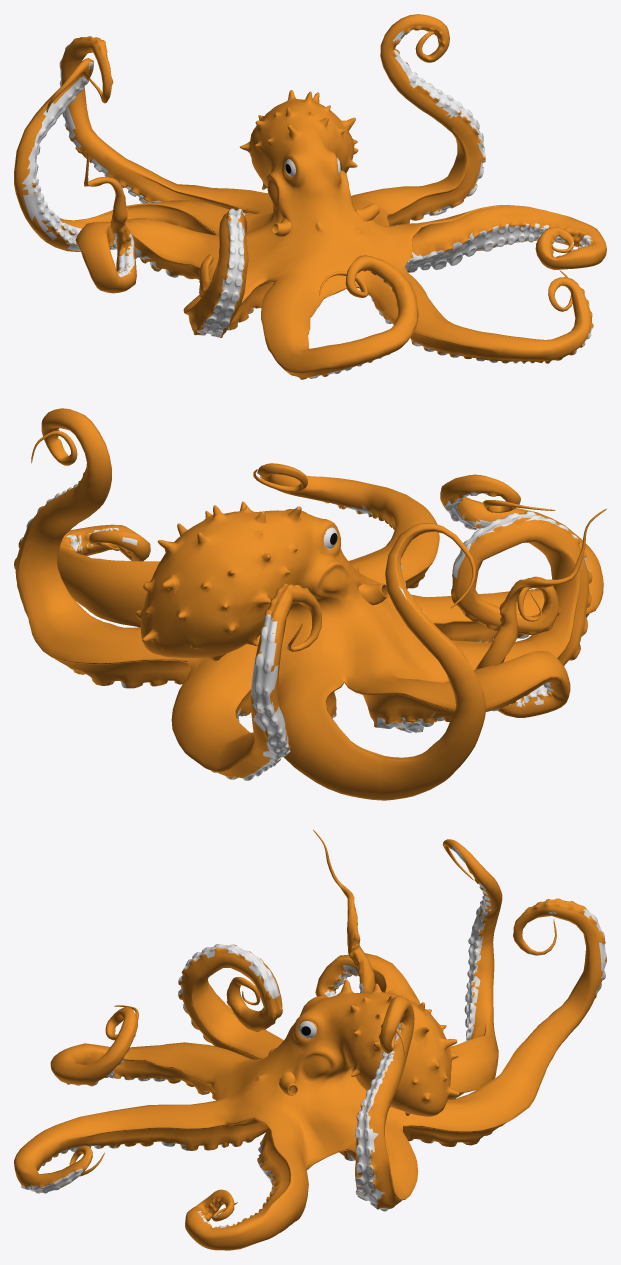
The model's file is octopus.fbx.
The picture shows the model from 3 angles, top to bottom: view 1: azimuth 30°, elevation 25°; view 2: azimuth 150°, elevation 25°; view 3: azimuth 270°, elevation 25°; orthographic projection. The views are drawn at different scales.
Parts seen in each view (by area): view 1: octopus.1; view 2: octopus.1; view 3: octopus.1.
Boxes of the visible parts, x1,y1,x2,y2 form: octopus.1: [14, 14, 606, 379]; octopus.1: [14, 408, 606, 800]; octopus.1: [14, 829, 606, 1250].
Size of the model in its own units: 7.78 by 3.34 by 8.28.
